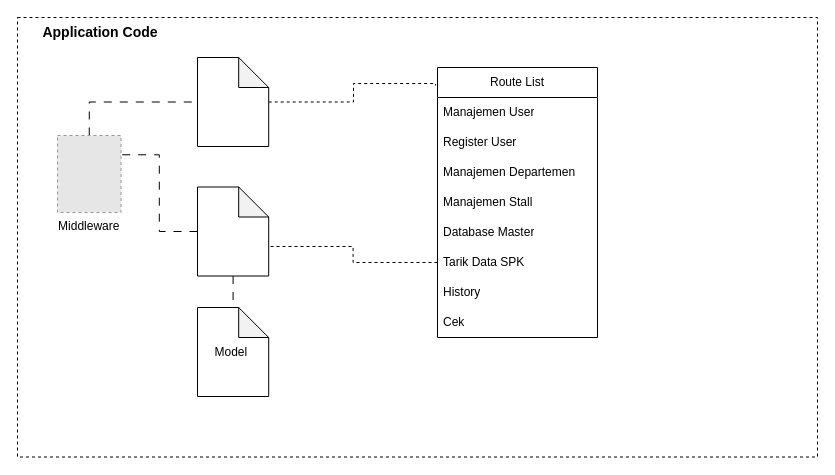
This 835x475 diagram has some shape labels left out. Grey dashed boxes stand in for pictures. The centre of each missing label's shape, as x and y in pixels:
"Controller" goes at (232,231).
"Route" goes at (232,101).
